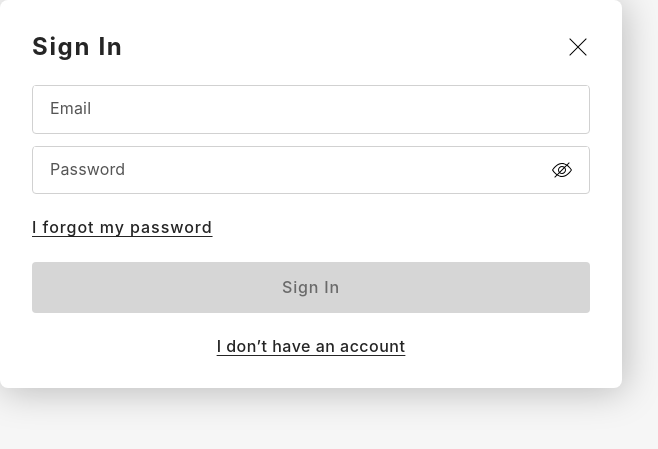
Test case: LoginForm component › Validation logic › should display required error for empty email
Click the text "Email": (311, 109) [34,86,588,132]
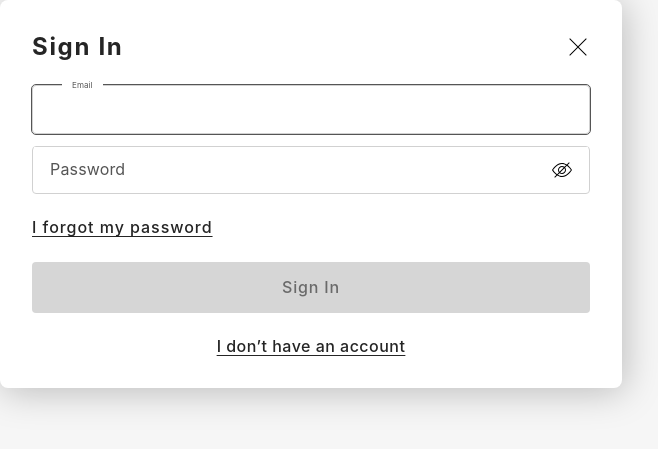
Check: the field is shown, box [32,85,590,134]
Check: the text "This field is required" is not shown
Press Tab
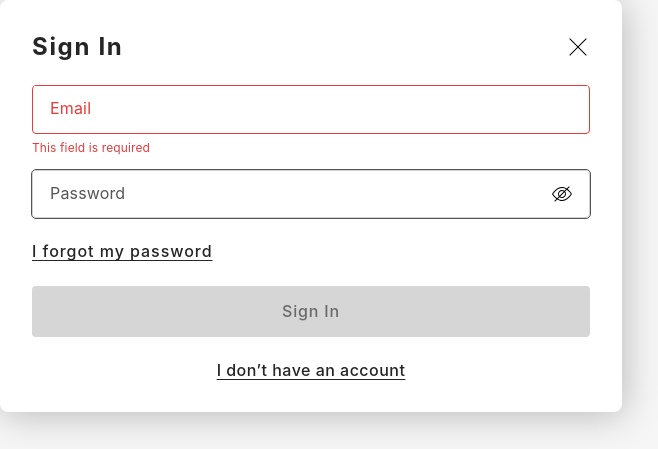
Check: the text "This field is required" is shown, box [32,140,150,155]
